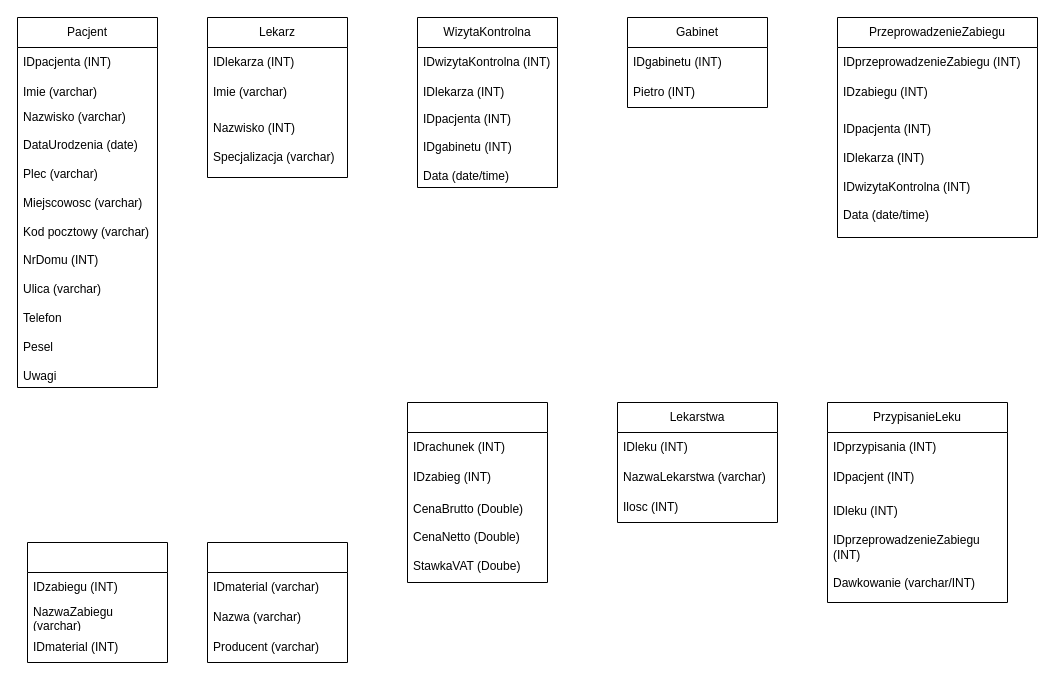
Image size: 1055x680. Some labels were removed from this diagram. Here are the shapes that lost their labels. From the top down, the box of each, then its label:
(406, 402, 548, 582): Rachunki
(26, 542, 168, 662): Zabiegi
(206, 542, 348, 662): MaterialyZabiegowe
